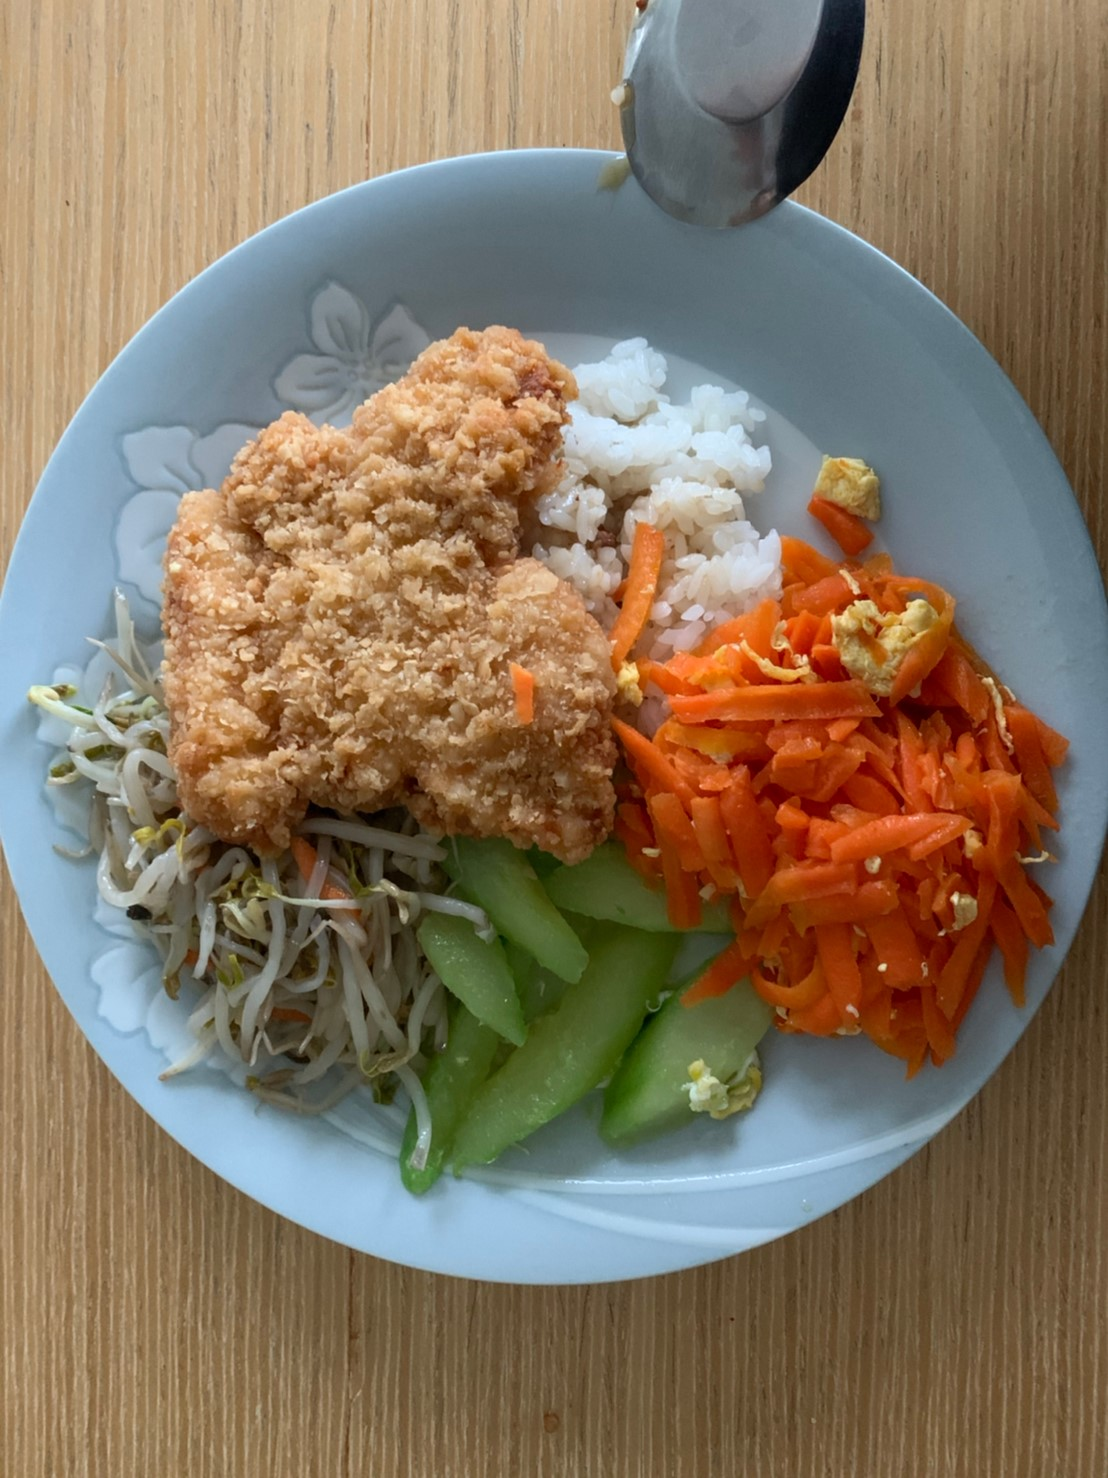carrot_eggs: (625, 564, 1085, 1023)
fried_chicken: (152, 320, 618, 852)
mung_bean_sprouts: (27, 685, 429, 1171)
rice: (575, 335, 789, 631)
